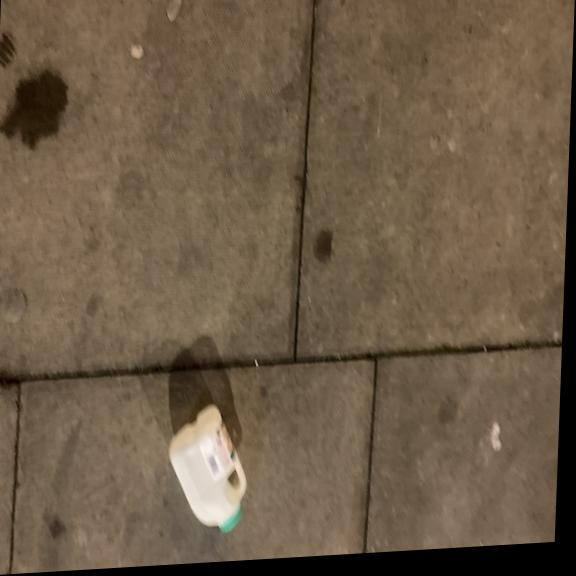Plastik: (156, 404, 252, 540)
